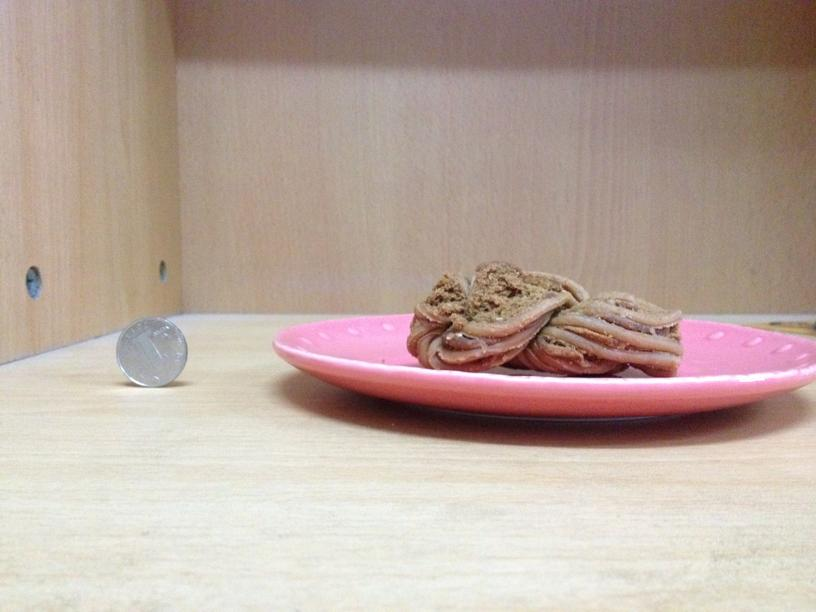coin: (114, 317, 188, 387)
fired_dough_twist: (410, 271, 684, 375)
